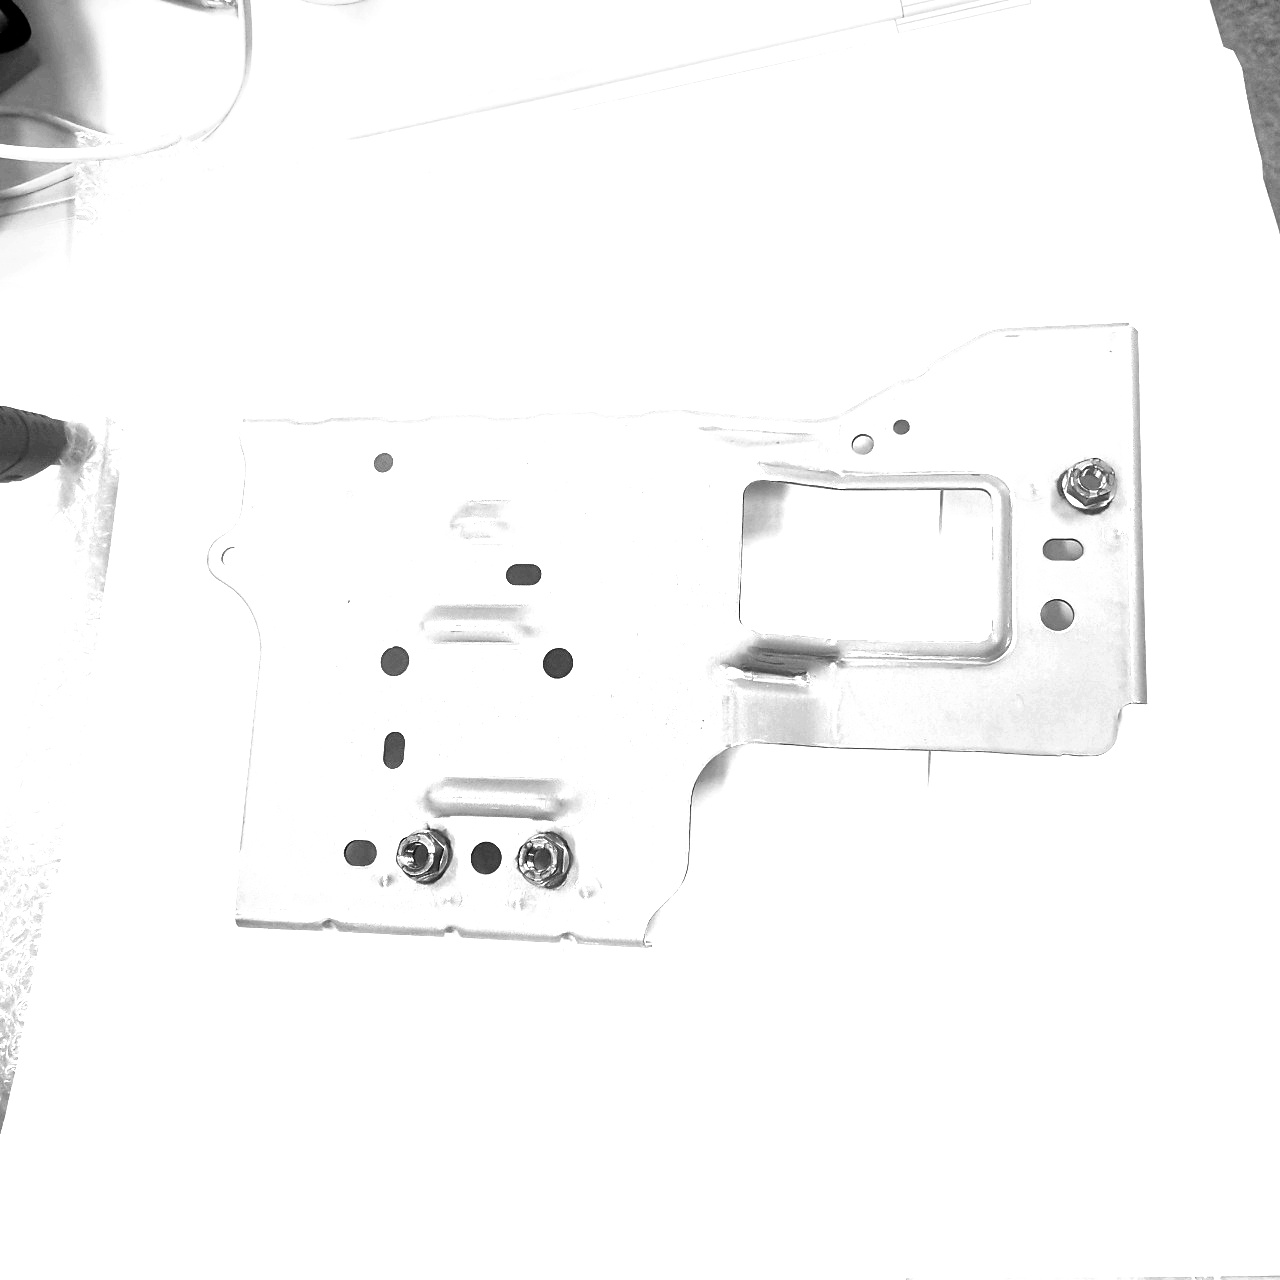dog: (1054, 454, 1122, 520), (515, 826, 578, 892), (390, 824, 454, 888)
